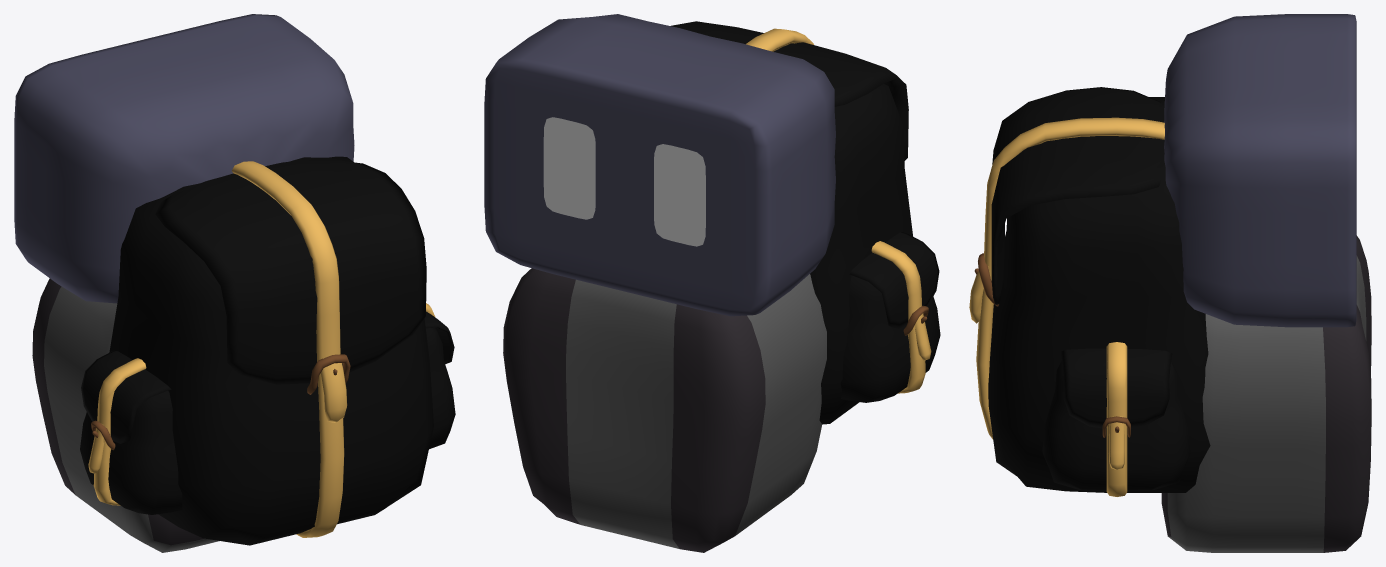
Rendered from EVE Robot.fbx.
The picture shows the model from 3 angles, left to right: view 1: azimuth 30°, elevation 25°; view 2: azimuth 150°, elevation 25°; view 3: azimuth 270°, elevation 25°; orthographic projection. The views are drawn at different scales.
Visible parts, largest first — view 1: Backpack, Head, Body; view 2: Head, Body, Backpack, Eyes; view 3: Backpack, Head, Body.
Boxes of the visible parts, box(x1,y1,x2,y2) form: Backpack: box(80, 156, 455, 545); Head: box(14, 14, 354, 303); Body: box(32, 278, 219, 552); Head: box(484, 14, 835, 316); Body: box(503, 268, 826, 552); Backpack: box(671, 21, 940, 424); Eyes: box(543, 117, 705, 246); Backpack: box(969, 87, 1210, 496); Head: box(1164, 14, 1356, 327); Body: box(1161, 235, 1371, 552).
Size of the model in its own units: 103 by 123 by 98.93.
